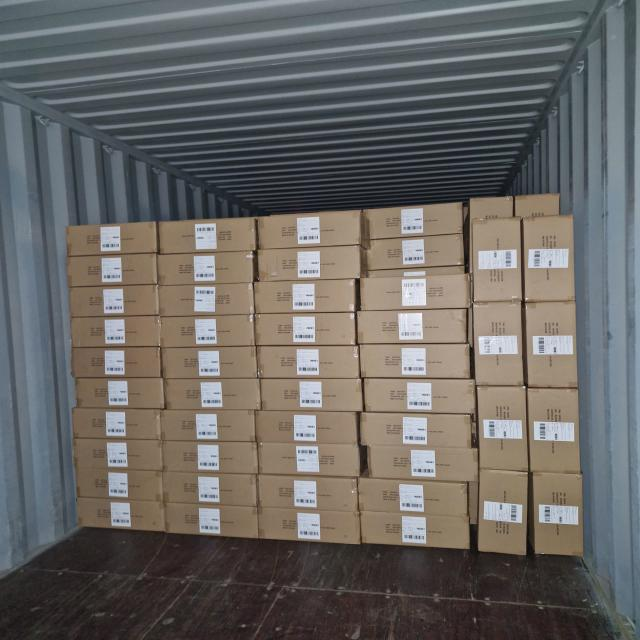Carton: (528, 302, 580, 391), (531, 388, 583, 474), (534, 472, 586, 558), (478, 468, 528, 555), (527, 214, 577, 301), (361, 510, 472, 549), (474, 302, 524, 388), (360, 479, 472, 517), (478, 386, 527, 472), (473, 218, 521, 305), (359, 273, 471, 310), (366, 448, 478, 484), (360, 344, 472, 379), (361, 381, 473, 416), (362, 414, 476, 448), (358, 312, 470, 346), (256, 211, 360, 247), (261, 508, 363, 544), (257, 477, 359, 512), (257, 442, 361, 476), (257, 249, 359, 283), (164, 502, 259, 538), (364, 234, 464, 268), (256, 346, 359, 379), (256, 412, 359, 445), (257, 280, 360, 313), (258, 376, 360, 409), (255, 315, 356, 348), (162, 218, 258, 252), (163, 473, 259, 507), (77, 498, 167, 533), (162, 440, 260, 472), (162, 347, 260, 379), (164, 377, 262, 409), (366, 206, 464, 238), (161, 255, 258, 287), (159, 284, 256, 316), (161, 318, 257, 349), (74, 437, 164, 470), (66, 256, 157, 288), (162, 412, 258, 442), (71, 408, 161, 440), (68, 223, 160, 254), (76, 376, 168, 407), (70, 285, 162, 316), (72, 318, 164, 349), (73, 347, 165, 378), (76, 470, 165, 502)
